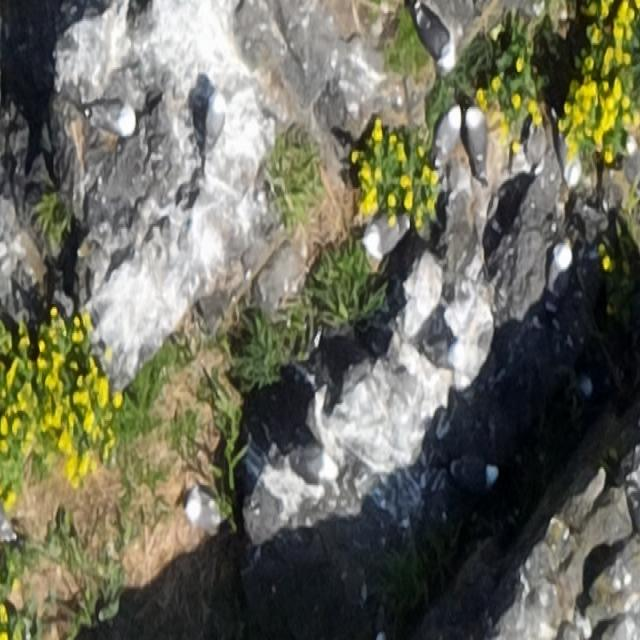umineko: (544, 241, 576, 320), (364, 209, 408, 259), (555, 115, 581, 192), (201, 91, 227, 166), (296, 442, 336, 487), (416, 12, 450, 64), (184, 489, 226, 531), (434, 105, 461, 170), (451, 460, 502, 494), (467, 112, 488, 172), (91, 108, 136, 134), (1, 505, 14, 539), (0, 500, 10, 536)
